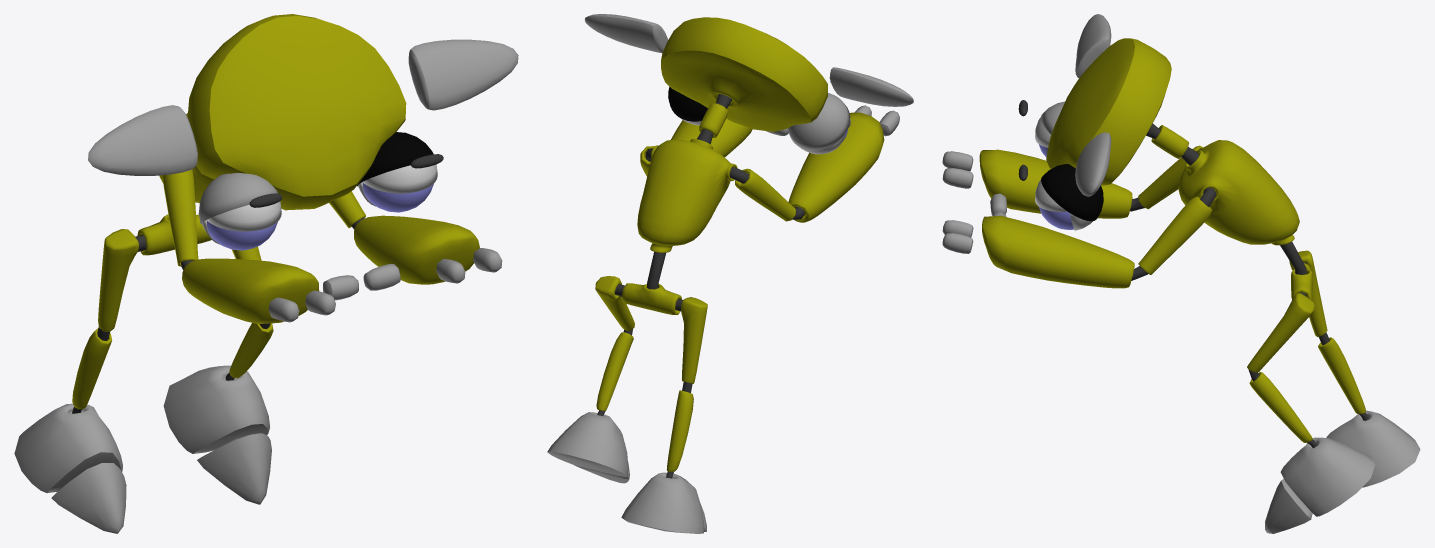
Rendered from push8.obj.
3 views of the same model, side by side, from view 1: azimuth 30°, elevation 25°; view 2: azimuth 150°, elevation 25°; view 3: azimuth 270°, elevation 25° (orthographic). The views are drawn at different scales.
Visible parts, largest first — view 1: Mesh polySurface50, Mesh polySurface37, Mesh polySurface10, Mesh polySurface18, Mesh polySurface47, Mesh polySurface26, Mesh polySurface44, Mesh polySurface48, Mesh polySurface24, Mesh polySurface8, Mesh polySurface28, Mesh polySurface38 (+17 smaller); view 2: Mesh polySurface41, Mesh polySurface49, Mesh polySurface48, Mesh polySurface37, Mesh polySurface26, Mesh polySurface10, Mesh polySurface21, Mesh polySurface45, Mesh polySurface28, Mesh polySurface42, Mesh polySurface38, Mesh polySurface18 (+8 smaller); view 3: Mesh polySurface41, Mesh polySurface18, Mesh polySurface50, Mesh polySurface48, Mesh polySurface10, Mesh polySurface37, Mesh polySurface26, Mesh polySurface51, Mesh polySurface4, Mesh polySurface12, Mesh polySurface44, Mesh polySurface11 (+7 smaller).
Boxes of the visible parts, x1=… form: Mesh polySurface50: x1=209, y1=15, x2=406, y2=196; Mesh polySurface37: x1=182, y1=258, x2=319, y2=323; Mesh polySurface10: x1=163, y1=365, x2=269, y2=453; Mesh polySurface18: x1=354, y1=215, x2=479, y2=284; Mesh polySurface47: x1=88, y1=105, x2=197, y2=175; Mesh polySurface26: x1=14, y1=403, x2=122, y2=492; Mesh polySurface44: x1=410, y1=39, x2=518, y2=110; Mesh polySurface48: x1=187, y1=14, x2=405, y2=210; Mesh polySurface24: x1=51, y1=463, x2=126, y2=533; Mesh polySurface8: x1=197, y1=433, x2=271, y2=504; Mesh polySurface28: x1=98, y1=229, x2=138, y2=331; Mesh polySurface38: x1=162, y1=169, x2=198, y2=266; Mesh polySurface41: x1=637, y1=139, x2=737, y2=252; Mesh polySurface49: x1=661, y1=50, x2=810, y2=131; Mesh polySurface48: x1=661, y1=17, x2=827, y2=122; Mesh polySurface37: x1=788, y1=112, x2=884, y2=222; Mesh polySurface26: x1=621, y1=472, x2=704, y2=533; Mesh polySurface10: x1=547, y1=412, x2=628, y2=476; Mesh polySurface21: x1=788, y1=93, x2=850, y2=150; Mesh polySurface45: x1=830, y1=69, x2=913, y2=106; Mesh polySurface28: x1=681, y1=297, x2=707, y2=383; Mesh polySurface42: x1=584, y1=16, x2=661, y2=53; Mesh polySurface38: x1=735, y1=168, x2=795, y2=221; Mesh polySurface18: x1=671, y1=118, x2=752, y2=157; Mesh polySurface41: x1=1178, y1=140, x2=1299, y2=245; Mesh polySurface18: x1=982, y1=215, x2=1134, y2=288; Mesh polySurface50: x1=1046, y1=38, x2=1134, y2=168; Mesh polySurface48: x1=1050, y1=38, x2=1171, y2=185; Mesh polySurface10: x1=1280, y1=437, x2=1375, y2=516; Mesh polySurface37: x1=979, y1=149, x2=1132, y2=218; Mesh polySurface26: x1=1326, y1=410, x2=1420, y2=487; Mesh polySurface51: x1=1138, y1=196, x2=1212, y2=274; Mesh polySurface4: x1=1041, y1=164, x2=1103, y2=221; Mesh polySurface12: x1=1247, y1=293, x2=1315, y2=372; Mesh polySurface44: x1=1075, y1=132, x2=1109, y2=196; Mesh polySurface11: x1=1249, y1=372, x2=1312, y2=442.
Size of the model in its own units: 10.05 by 12.81 by 11.75.
